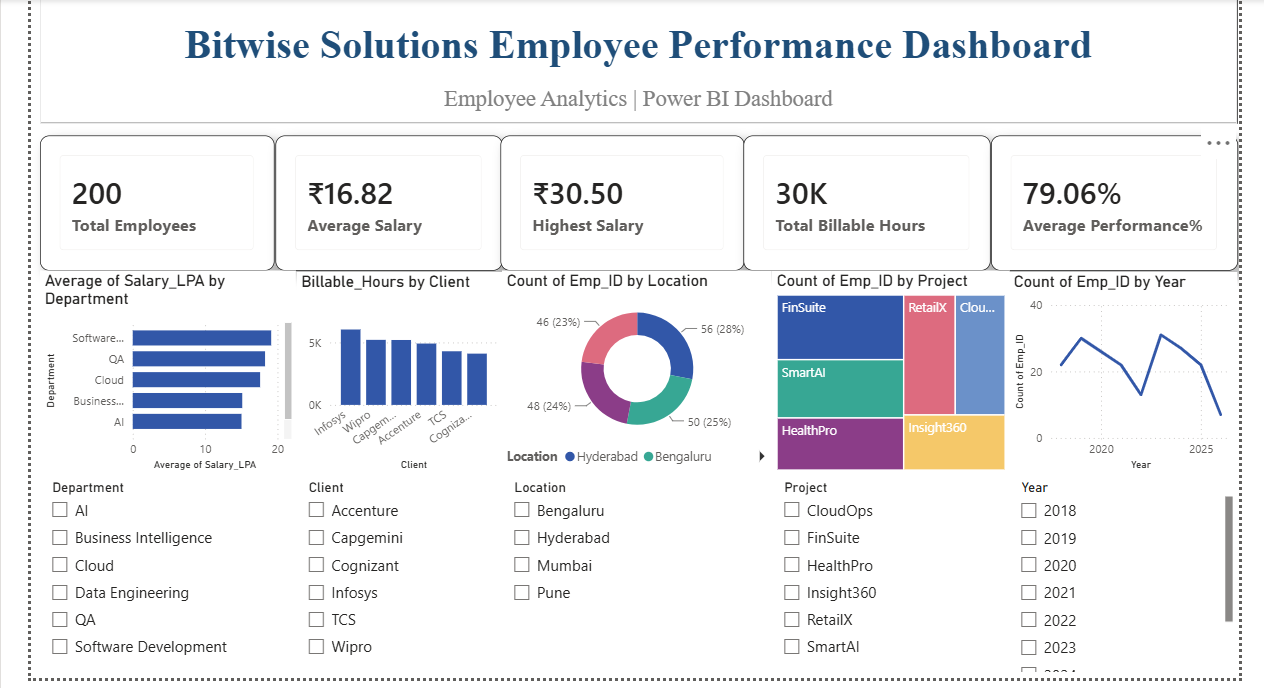

What the dashboard file says about the page in this screenshot:
{"tool":"powerbi","page":{"name":"Page 1","canvas":[1280,720],"ordinal":0},"visuals":[{"type":"cardVisual","fields":{"Data":["Bitwise_Project_Data.Total Employees"]},"box":[9.8,144.7,248.7,143.1],"z":0},{"type":"cardVisual","fields":{"Data":["Bitwise_Project_Data.Average Salary"]},"box":[258.5,144.7,240.6,143.1],"z":1000},{"type":"cardVisual","fields":{"Data":["Bitwise_Project_Data.Highest Salary"]},"box":[497.5,144.7,258.5,143.1],"z":2000},{"type":"cardVisual","fields":{"Data":["Bitwise_Project_Data.Total Billable Hours"]},"box":[756,144.7,261.7,143.1],"z":3000},{"type":"cardVisual","fields":{"Data":["Bitwise_Project_Data.Average Performance"]},"box":[1017.7,144.7,261.7,143.1],"z":4000},{"type":"clusteredBarChart","fields":{"Category":["Bitwise_Project_Data.Department"],"Y":["Avg(Bitwise_Project_Data.Salary_LPA)"]},"box":[9.8,287.8,271.5,216.2],"z":5000},{"type":"donutChart","fields":{"Category":["Bitwise_Project_Data.Location"],"Y":["CountNonNull(Bitwise_Project_Data.Emp_ID)"]},"box":[499.1,287.8,286.1,216.2],"z":6000},{"type":"treemap","fields":{"Group":["Bitwise_Project_Data.Project"],"Values":["CountNonNull(Bitwise_Project_Data.Emp_ID)"]},"box":[785.2,287.8,252,216.2],"z":7000},{"type":"lineChart","fields":{"Y":["CountNonNull(Bitwise_Project_Data.Emp_ID)"],"Category":["Bitwise_Project_Data.Joining_Date.Variation.Date Hierarchy.Year"]},"box":[1037.2,289.4,242.2,214.6],"z":8000},{"type":"clusteredColumnChart","fields":{"Category":["Bitwise_Project_Data.Client"],"Y":["Sum(Bitwise_Project_Data.Billable_Hours)"]},"box":[281.3,289.4,217.9,214.6],"z":9000},{"type":"slicer","fields":{"Values":["Bitwise_Project_Data.Department"]},"box":[9.8,504,271.5,216.2],"z":10000},{"type":"slicer","fields":{"Values":["Bitwise_Project_Data.Client"]},"box":[281.3,504,217.9,216.2],"z":11000},{"type":"slicer","fields":{"Values":["Bitwise_Project_Data.Location"]},"box":[499.1,504,286.1,214.6],"z":12000},{"type":"slicer","fields":{"Values":["Bitwise_Project_Data.Project"]},"box":[785.2,504,252,214.6],"z":13000},{"type":"slicer","fields":{"Values":["Bitwise_Project_Data.Joining_Date.Variation.Date Hierarchy.Year"]},"box":[1037.2,504,242.2,214.6],"z":14000},{"type":"textbox","box":[9.8,0,1269.7,131.7],"z":15000}]}

Visuals, with their boxes on the page's 1280x720 design canvas (x1, y1, x2, y2). These are canvas units, not pixel positions in the 1264x688 screenshot, which may show the page scaled, cropped or inside an application window:
cardVisual - Bitwise_Project_Data.Total Employees: x1=10 y1=145 x2=258 y2=288
cardVisual - Bitwise_Project_Data.Average Salary: x1=258 y1=145 x2=499 y2=288
cardVisual - Bitwise_Project_Data.Highest Salary: x1=498 y1=145 x2=756 y2=288
cardVisual - Bitwise_Project_Data.Total Billable Hours: x1=756 y1=145 x2=1018 y2=288
cardVisual - Bitwise_Project_Data.Average Performance: x1=1018 y1=145 x2=1279 y2=288
clusteredBarChart - Bitwise_Project_Data.Department x Avg(Bitwise_Project_Data.Salary_LPA): x1=10 y1=288 x2=281 y2=504
donutChart - Bitwise_Project_Data.Location x CountNonNull(Bitwise_Project_Data.Emp_ID): x1=499 y1=288 x2=785 y2=504
treemap - Bitwise_Project_Data.Project x CountNonNull(Bitwise_Project_Data.Emp_ID): x1=785 y1=288 x2=1037 y2=504
lineChart - CountNonNull(Bitwise_Project_Data.Emp_ID) x Bitwise_Project_Data.Joining_Date.Variation.Date Hierarchy.Year: x1=1037 y1=289 x2=1279 y2=504
clusteredColumnChart - Bitwise_Project_Data.Client x Sum(Bitwise_Project_Data.Billable_Hours): x1=281 y1=289 x2=499 y2=504
slicer - Bitwise_Project_Data.Department: x1=10 y1=504 x2=281 y2=720
slicer - Bitwise_Project_Data.Client: x1=281 y1=504 x2=499 y2=720
slicer - Bitwise_Project_Data.Location: x1=499 y1=504 x2=785 y2=719
slicer - Bitwise_Project_Data.Project: x1=785 y1=504 x2=1037 y2=719
slicer - Bitwise_Project_Data.Joining_Date.Variation.Date Hierarchy.Year: x1=1037 y1=504 x2=1279 y2=719
textbox: x1=10 y1=0 x2=1280 y2=132
